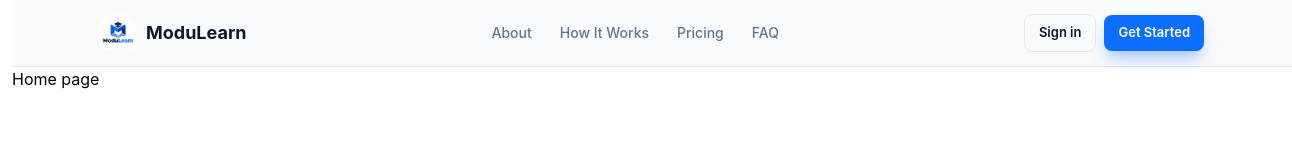
Test: Navbar › navigates to register from Get Started
Step 1. Click the button "Get Started" → (1154, 33), box [1104,15,1204,50]
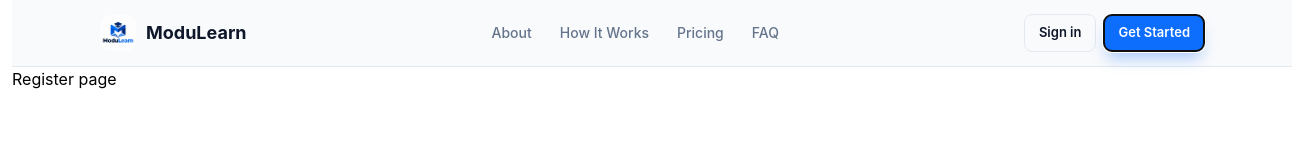
Now the text "Register page" is shown, box [12,68,116,88]
